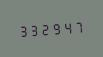four: (62, 19, 72, 35)
nine: (51, 20, 61, 36)
seven: (73, 18, 83, 34)
three: (17, 22, 27, 38), (28, 21, 38, 37)
two: (40, 20, 50, 37)
